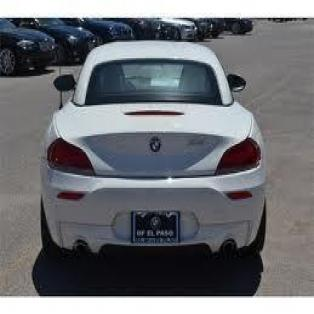Auto: (39, 41, 267, 266)
